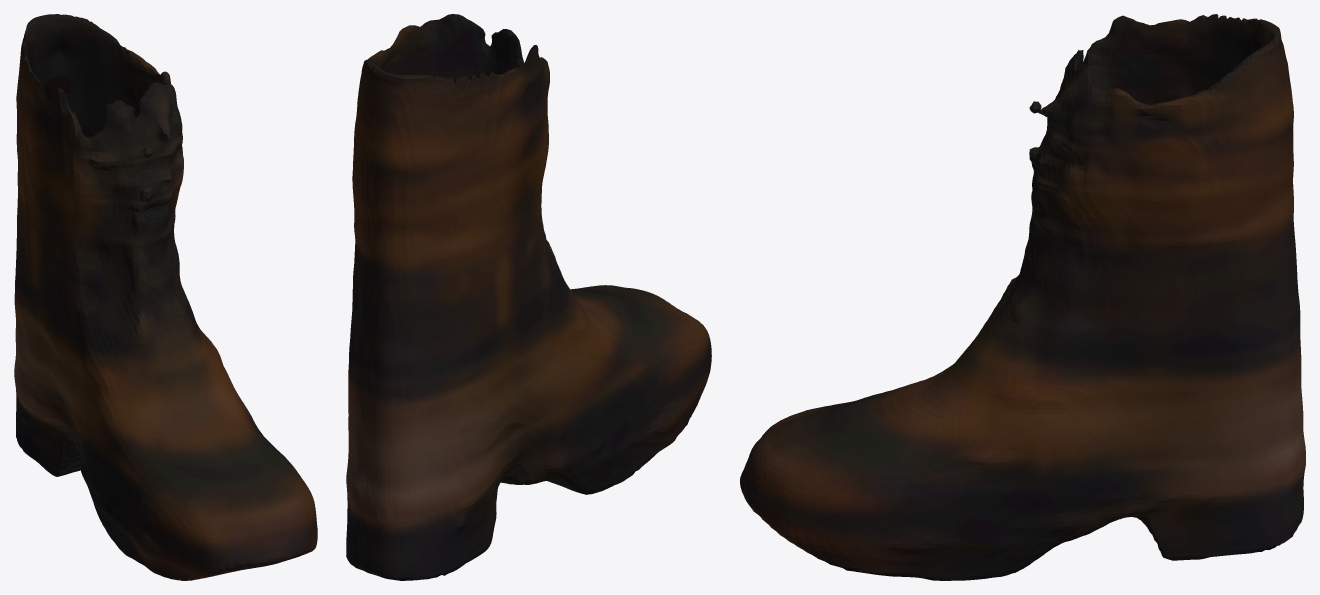
3 renders of one model, left to right at view 1: azimuth 30°, elevation 25°; view 2: azimuth 150°, elevation 25°; view 3: azimuth 270°, elevation 25°, orthographic. The views are drawn at different scales.
Parts seen in each view (by area): view 1: geometry_0; view 2: geometry_0; view 3: geometry_0.
Boxes of the visible parts, x1,y1,x2,y2 form: geometry_0: (14, 14, 317, 580); geometry_0: (346, 14, 711, 580); geometry_0: (740, 14, 1305, 580).
Bounding box in the file's own units: 0.6036 × 1.57 × 1.6.
